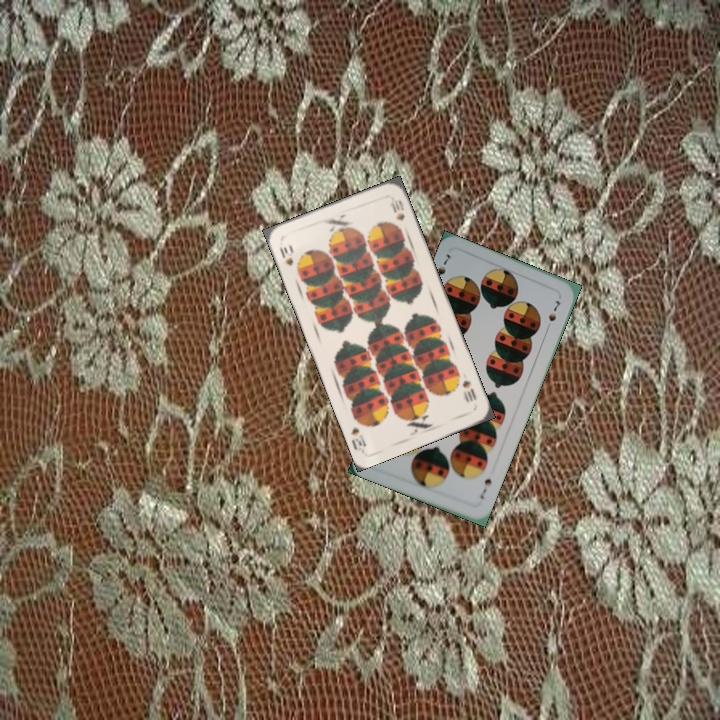S10: (458, 376, 479, 405), (275, 242, 296, 268)
S7: (433, 250, 453, 277), (476, 474, 494, 502)
